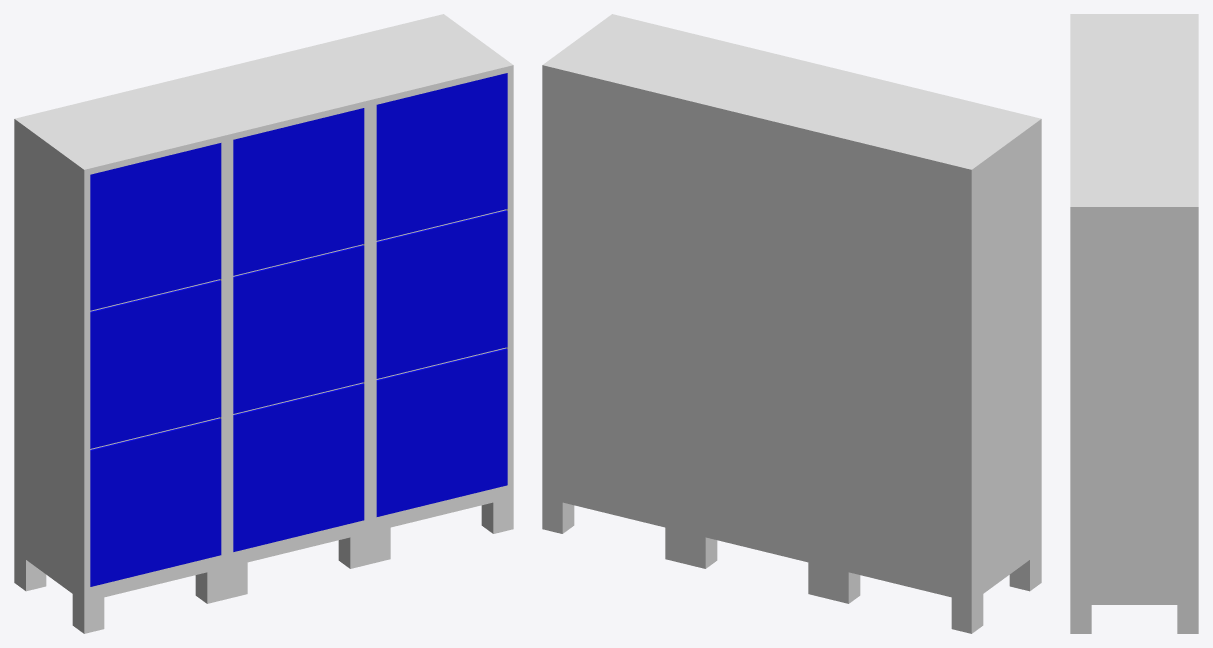
Rendered from casiers.bloc.3.glb.
3 renders of one model, left to right at view 1: azimuth 30°, elevation 25°; view 2: azimuth 150°, elevation 25°; view 3: azimuth 270°, elevation 25°, orthographic. The views are drawn at different scales.
Visible parts, largest first — view 1: imagetostl_mesh7, imagetostl_mesh18, imagetostl_mesh55, imagetostl_mesh69, imagetostl_mesh17, imagetostl_mesh19, imagetostl_mesh51, imagetostl_mesh59, imagetostl_mesh67, imagetostl_mesh68, imagetostl_mesh12, imagetostl_mesh66 (+4 smaller); view 2: imagetostl_mesh4, imagetostl_mesh84, imagetostl_mesh46, imagetostl_mesh7, imagetostl_mesh16, imagetostl_mesh90, imagetostl_mesh44; view 3: imagetostl_mesh70, imagetostl_mesh16, imagetostl_mesh44, imagetostl_mesh90.
Part boxes in pixels (bbox=[...]): imagetostl_mesh7: bbox=[14, 119, 84, 633]; imagetostl_mesh18: bbox=[90, 281, 221, 448]; imagetostl_mesh55: bbox=[233, 108, 364, 275]; imagetostl_mesh69: bbox=[376, 211, 507, 378]; imagetostl_mesh17: bbox=[90, 143, 221, 310]; imagetostl_mesh19: bbox=[90, 419, 221, 586]; imagetostl_mesh51: bbox=[233, 246, 364, 413]; imagetostl_mesh59: bbox=[233, 384, 364, 551]; imagetostl_mesh67: bbox=[376, 349, 507, 516]; imagetostl_mesh68: bbox=[376, 73, 507, 240]; imagetostl_mesh12: bbox=[84, 135, 227, 633]; imagetostl_mesh66: bbox=[370, 65, 513, 563]; imagetostl_mesh4: bbox=[828, 135, 971, 633]; imagetostl_mesh84: bbox=[542, 65, 685, 563]; imagetostl_mesh46: bbox=[685, 100, 828, 598]; imagetostl_mesh7: bbox=[971, 119, 1041, 633]; imagetostl_mesh16: bbox=[829, 84, 1041, 169]; imagetostl_mesh90: bbox=[543, 14, 754, 99]; imagetostl_mesh44: bbox=[686, 49, 897, 134]; imagetostl_mesh70: bbox=[1070, 207, 1198, 633]; imagetostl_mesh16: bbox=[1070, 14, 1198, 78]; imagetostl_mesh44: bbox=[1070, 78, 1198, 142]; imagetostl_mesh90: bbox=[1070, 142, 1198, 206].
Bounding box in the file's own units: 1.68 × 1.73 × 0.4724.
